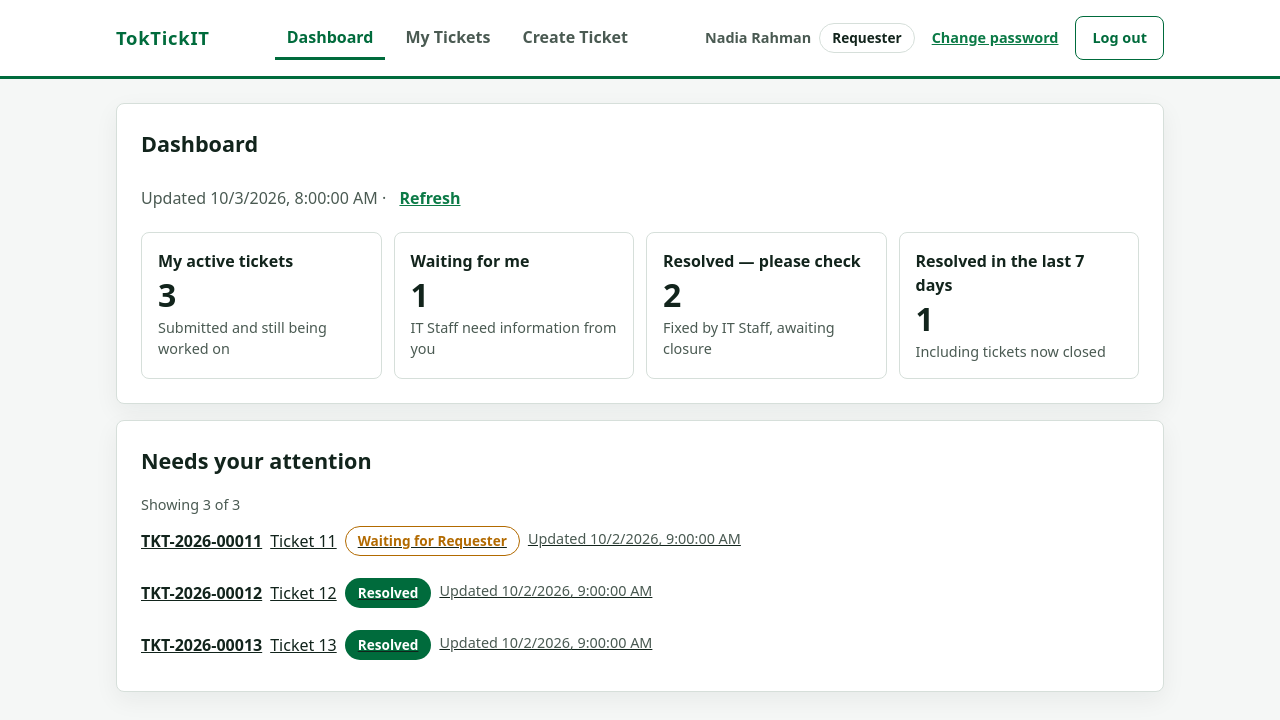
Test: UI-06 the states › failure: an alert with Retry and nothing stale beside it; Retry loads
The width and height of the screenshot is (1280, 720).
expect the heading "Dashboard" is shown: met, box [141,129,258,158]
expect the link with aria-label "My active tickets: 3 tickets" is shown: met, box [141,232,382,379]
Click the button "Refresh" at (430, 198), box [390,176,470,220]
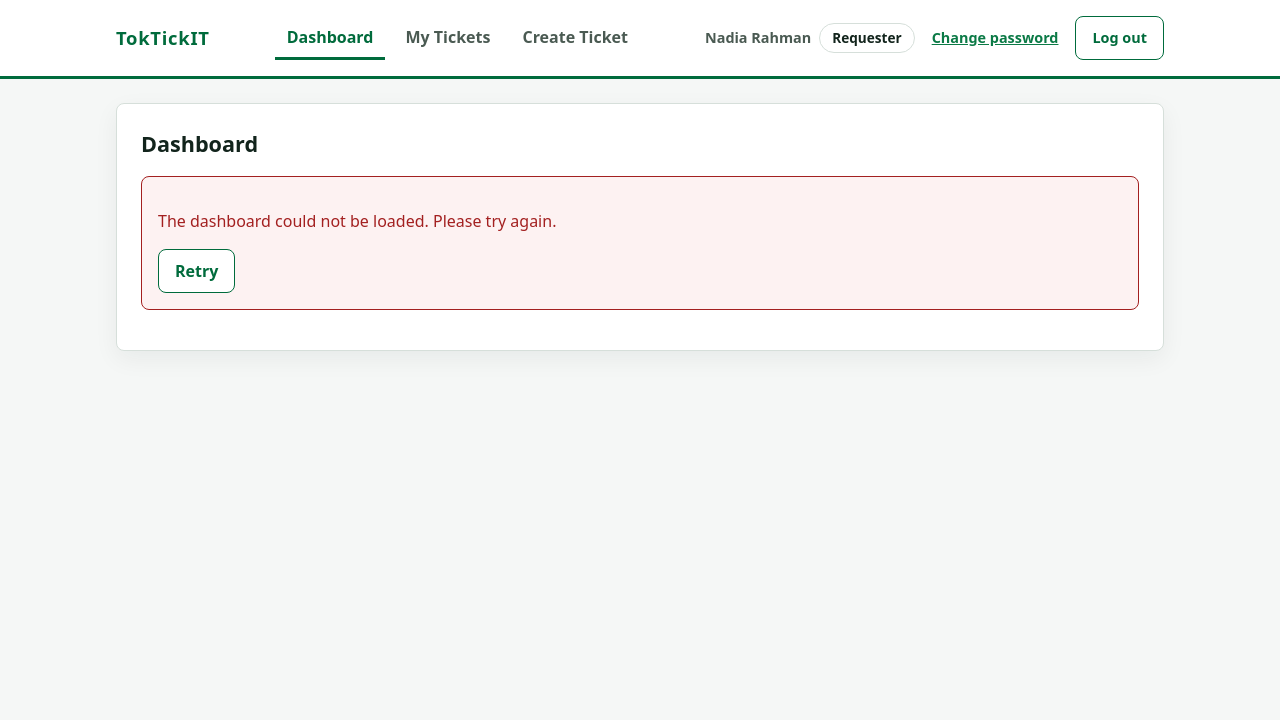
expect the message shows "The dashboard could not be loaded. Please try again.": met, box [158,210,556,232]
expect the link "My active tickets" is gone: met
expect the text "Updated " is gone: met
Click the button "Retry" at (197, 271), box [158,249,235,293]
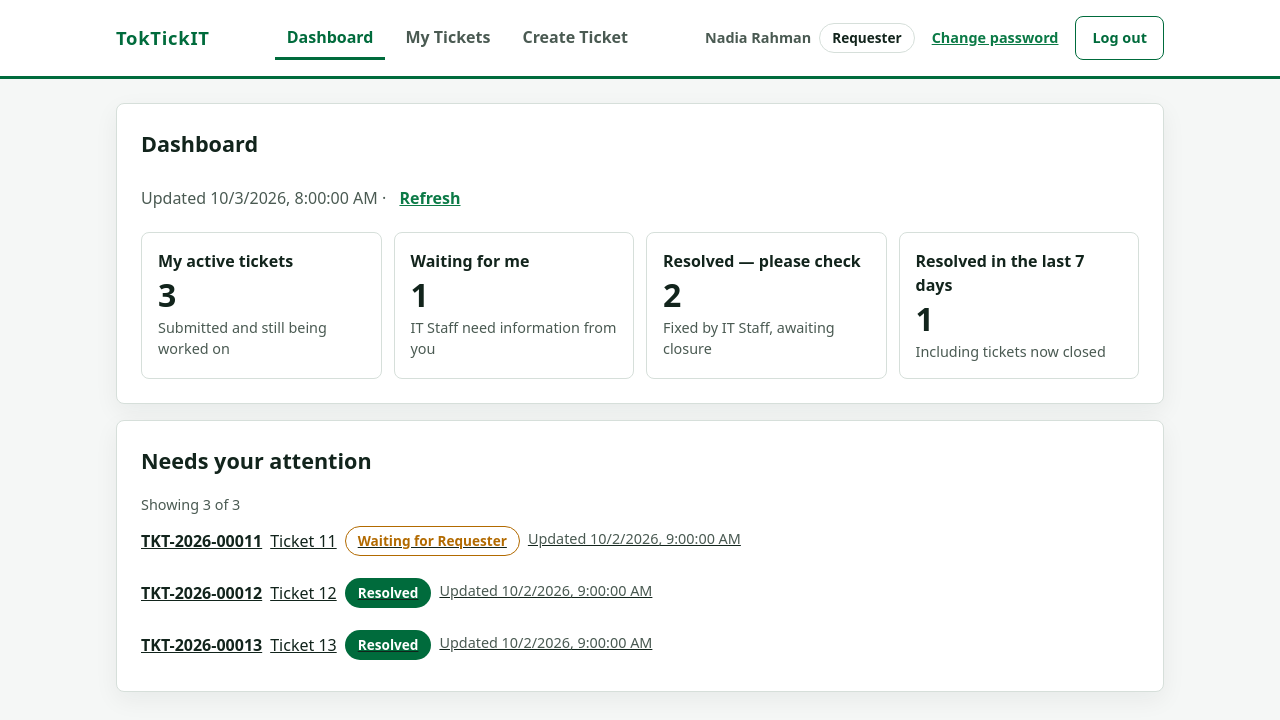
expect the link with aria-label "My active tickets: 3 tickets" is shown: met, box [141,232,382,379]
